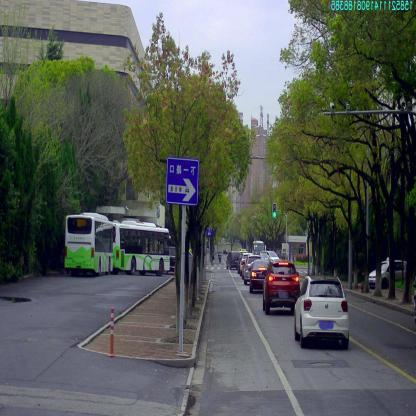traffic-light: (273, 203, 276, 217)
